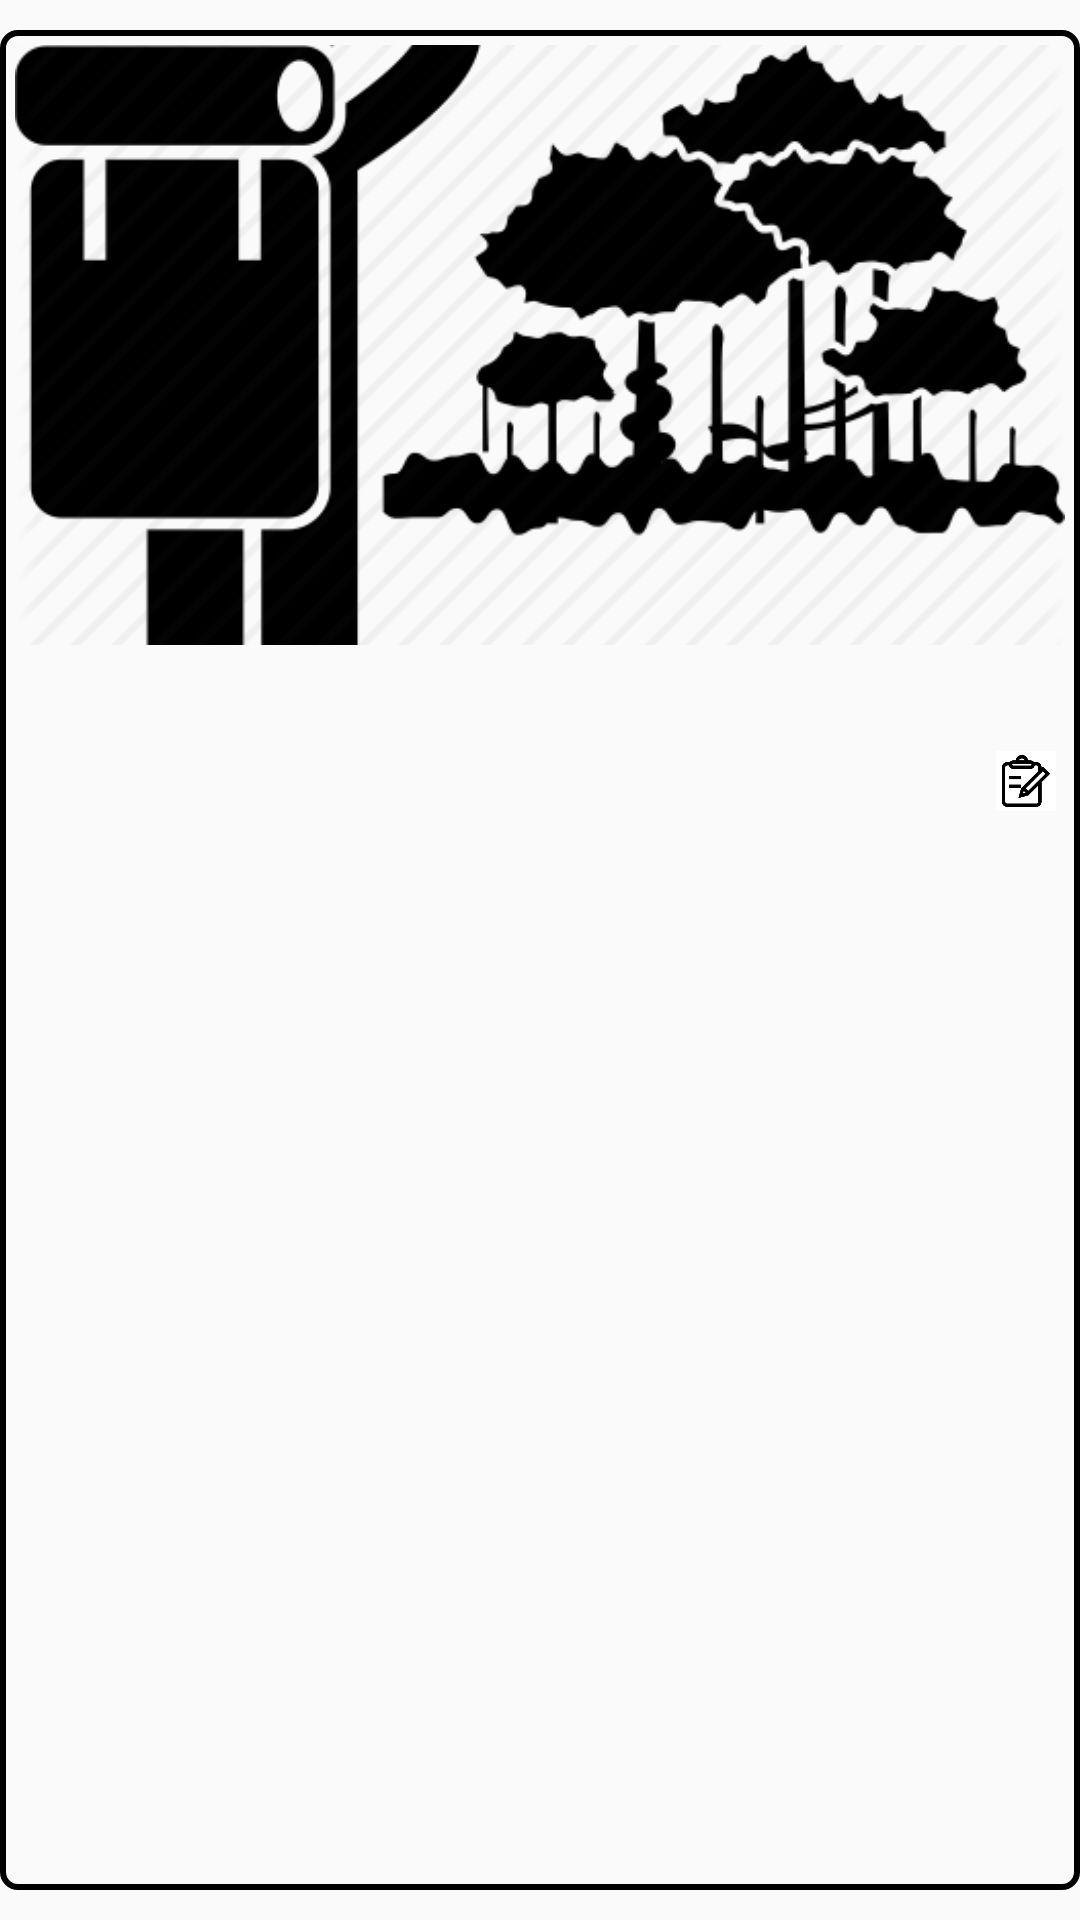

Screen size 1080w x 1920h. Icon name, then its center in pixels as (x=x, y=y):
description: (x=1026, y=781)
